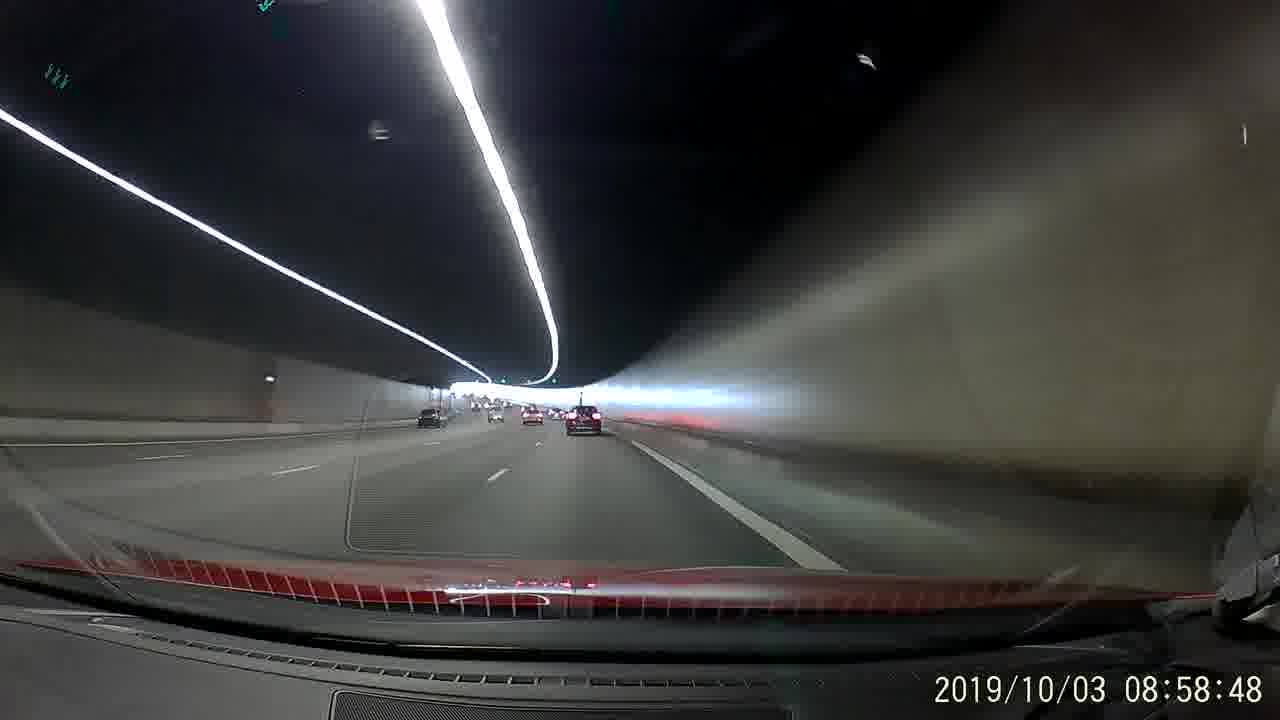car: (564, 405, 603, 437), (417, 406, 450, 431), (519, 406, 544, 427)
